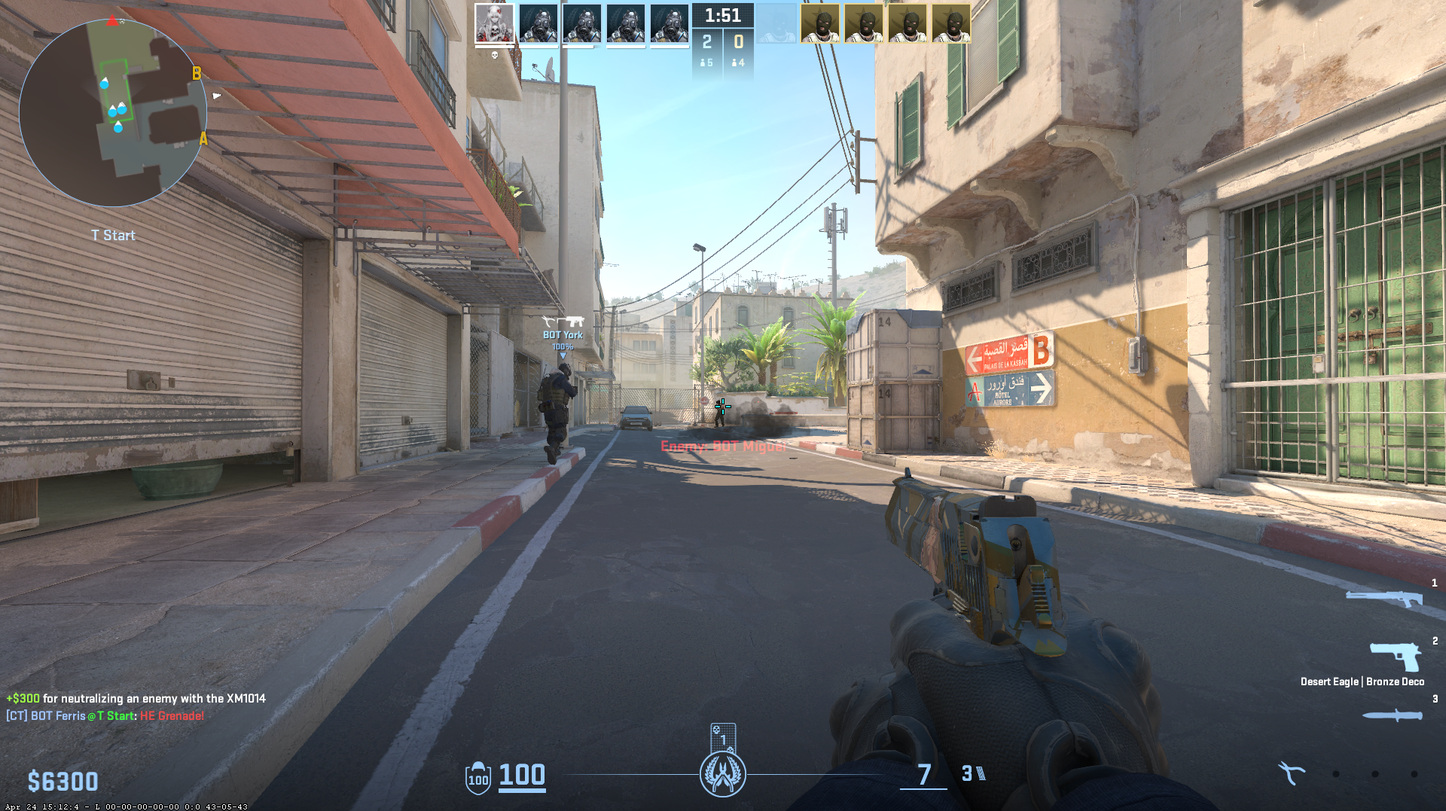CT: (539, 362, 578, 466)
T: (715, 400, 725, 427)
